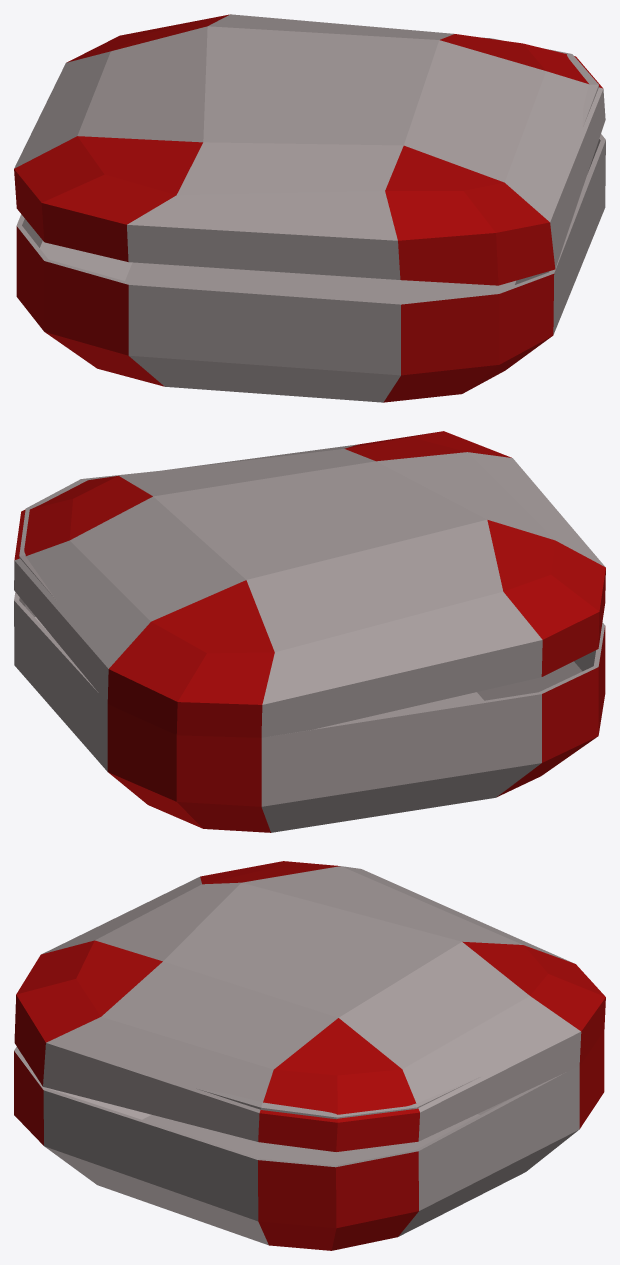
The model's file is caja de hamburguesa.FBX.
3 views of the same model, one above another, from view 1: azimuth 30°, elevation 25°; view 2: azimuth 150°, elevation 25°; view 3: azimuth 270°, elevation 25° (orthographic). The views are drawn at different scales.
Visible parts, largest first — view 1: caja de hamburguesa; view 2: caja de hamburguesa; view 3: caja de hamburguesa.
Boxes of the visible parts, x1=… form: caja de hamburguesa: x1=14, y1=14, x2=605, y2=402; caja de hamburguesa: x1=14, y1=431, x2=605, y2=832; caja de hamburguesa: x1=14, y1=861, x2=605, y2=1250.
Bounding box in the file's own units: 17.58 × 6.69 × 17.55.
